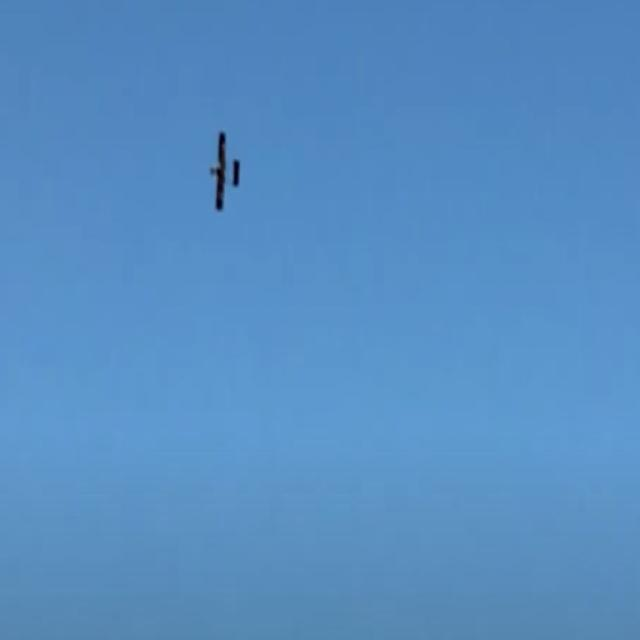iha: (209, 160, 240, 180)
